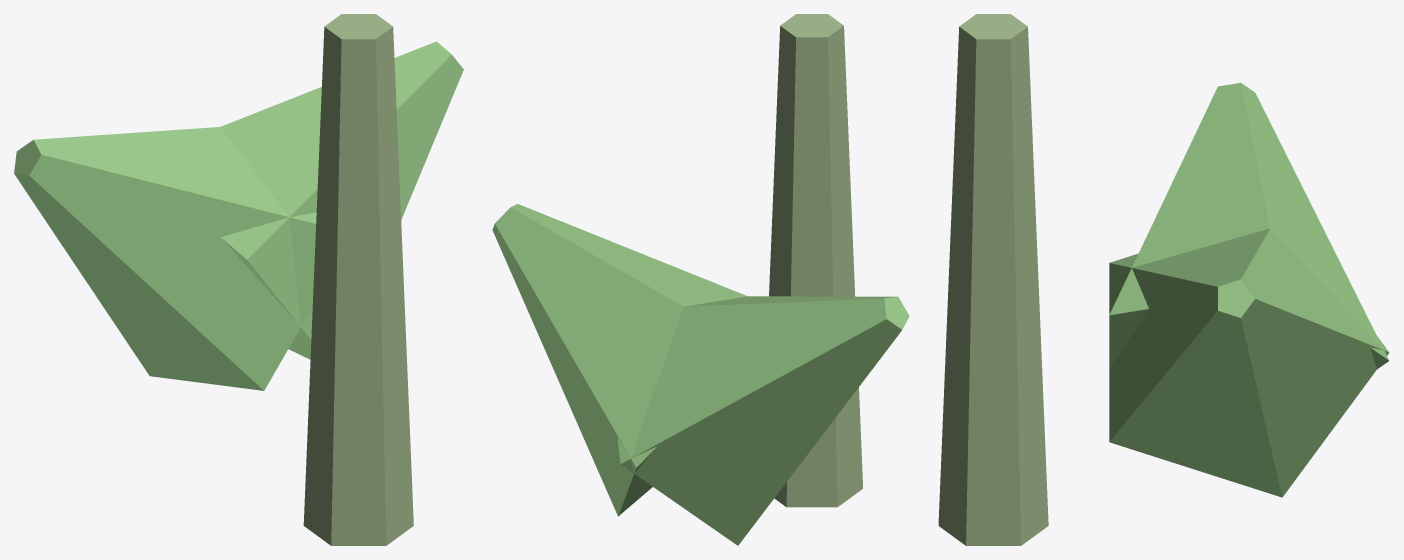
Rendered from sprout.glb.
3 views of the same model, side by side, from view 1: azimuth 30°, elevation 25°; view 2: azimuth 150°, elevation 25°; view 3: azimuth 270°, elevation 25° (orthographic). The views are drawn at different scales.
Parts seen in each view (by area): view 1: Sprout; view 2: Sprout; view 3: Sprout.
Part boxes in pixels (bbox=[...]): Sprout: bbox=[14, 14, 463, 545]; Sprout: bbox=[492, 14, 909, 545]; Sprout: bbox=[938, 14, 1389, 545].
Bounding box in the file's own units: 14.83 × 16 × 13.1.
